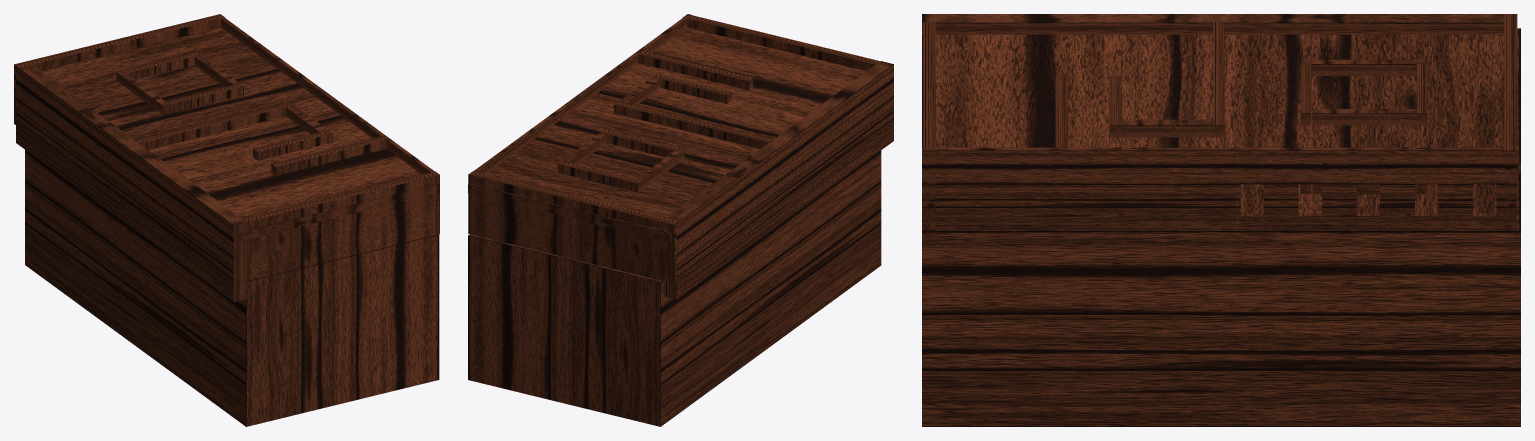
3 views of the same model, side by side, from view 1: azimuth 30°, elevation 25°; view 2: azimuth 150°, elevation 25°; view 3: azimuth 270°, elevation 25° (orthographic). The views are drawn at different scales.
Parts seen in each view (by area): view 1: CSGBox3D2, CSGBox3D132, CSGBox3D23, CSGBox3D52, CSGBox3D42, CSGBox3D62, CSGBox3D32, CSGBox3D82, CSGCombiner3D3, CSGBox3D112, CSGBox3D72, CSGCombiner3D22 (+3 smaller); view 2: CSGBox3D2, CSGBox3D132, CSGBox3D23, CSGBox3D42, CSGBox3D52, CSGBox3D62, CSGBox3D82, CSGBox3D32, CSGCombiner3D3, CSGBox3D112, CSGCombiner3D22, CSGBox3D72 (+3 smaller); view 3: CSGBox3D2, CSGBox3D132, CSGBox3D32, CSGCombiner3D3, CSGBox3D23, CSGBox3D42, CSGBox3D52, CSGBox3D93, CSGBox3D102, CSGBox3D122, CSGBox3D62, CSGBox3D82 (+3 smaller).
Boxes of the visible parts, x1=… form: CSGBox3D2: x1=25, y1=150, x2=439, y2=426; CSGBox3D132: x1=41, y1=27, x2=439, y2=241; CSGBox3D23: x1=16, y1=65, x2=246, y2=302; CSGBox3D52: x1=241, y1=171, x2=439, y2=280; CSGBox3D42: x1=14, y1=14, x2=225, y2=124; CSGBox3D62: x1=134, y1=102, x2=294, y2=149; CSGBox3D32: x1=319, y1=90, x2=439, y2=235; CSGBox3D82: x1=271, y1=135, x2=389, y2=175; CSGCombiner3D3: x1=221, y1=17, x2=322, y2=98; CSGBox3D112: x1=253, y1=130, x2=332, y2=160; CSGBox3D72: x1=166, y1=83, x2=243, y2=113; CSGCombiner3D22: x1=123, y1=52, x2=200, y2=79; CSGBox3D2: x1=468, y1=150, x2=881, y2=426; CSGBox3D132: x1=468, y1=27, x2=866, y2=242; CSGBox3D23: x1=664, y1=61, x2=893, y2=299; CSGBox3D42: x1=468, y1=171, x2=678, y2=283; CSGBox3D52: x1=682, y1=14, x2=881, y2=71; CSGBox3D62: x1=614, y1=101, x2=774, y2=148; CSGBox3D82: x1=637, y1=50, x2=753, y2=89; CSGBox3D32: x1=572, y1=14, x2=691, y2=108; CSGCombiner3D3: x1=474, y1=99, x2=575, y2=173; CSGBox3D112: x1=652, y1=73, x2=731, y2=104; CSGCombiner3D22: x1=558, y1=161, x2=635, y2=190; CSGBox3D72: x1=601, y1=130, x2=678, y2=157; CSGBox3D2: x1=922, y1=173, x2=1520, y2=426; CSGBox3D132: x1=922, y1=28, x2=1520, y2=173; CSGBox3D32: x1=922, y1=147, x2=1237, y2=230; CSGCombiner3D3: x1=1237, y1=147, x2=1504, y2=230; CSGBox3D23: x1=922, y1=14, x2=1504, y2=34; CSGBox3D42: x1=1504, y1=14, x2=1517, y2=230; CSGBox3D52: x1=923, y1=22, x2=935, y2=230; CSGBox3D93: x1=1312, y1=109, x2=1417, y2=193; CSGBox3D102: x1=1302, y1=59, x2=1427, y2=75; CSGBox3D122: x1=1121, y1=119, x2=1213, y2=137; CSGBox3D62: x1=1213, y1=21, x2=1224, y2=137; CSGBox3D82: x1=1055, y1=74, x2=1067, y2=148.
Size of the model in its own units: 11.11 by 10.52 by 20.6.
Materials: 3 (3 with a texture image).
